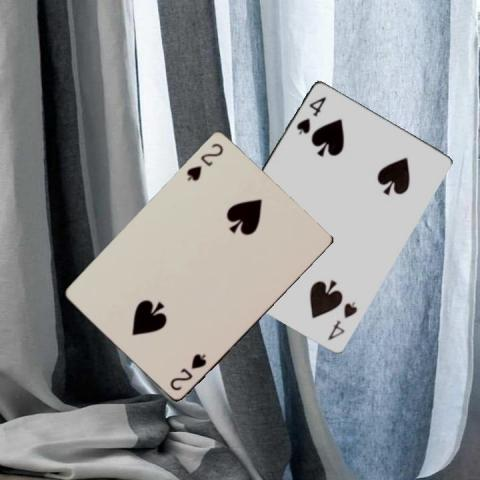2s: (183, 141, 225, 183), (167, 350, 208, 392)
4s: (294, 93, 328, 136), (324, 298, 358, 341)
